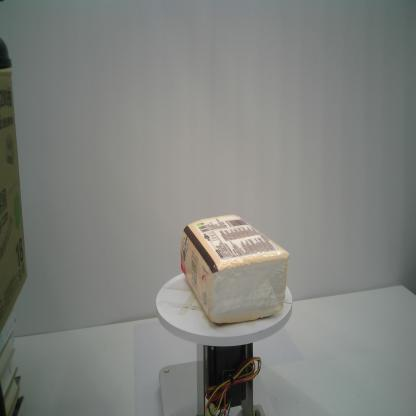Tissue: (180, 214, 289, 324)
